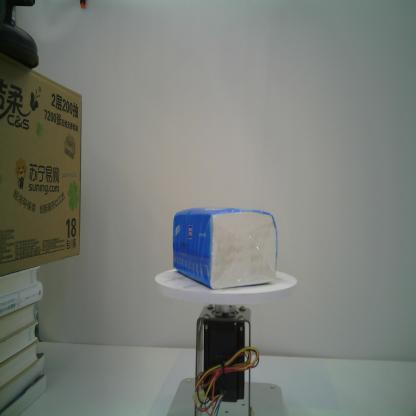Tissue: (172, 206, 278, 291)
